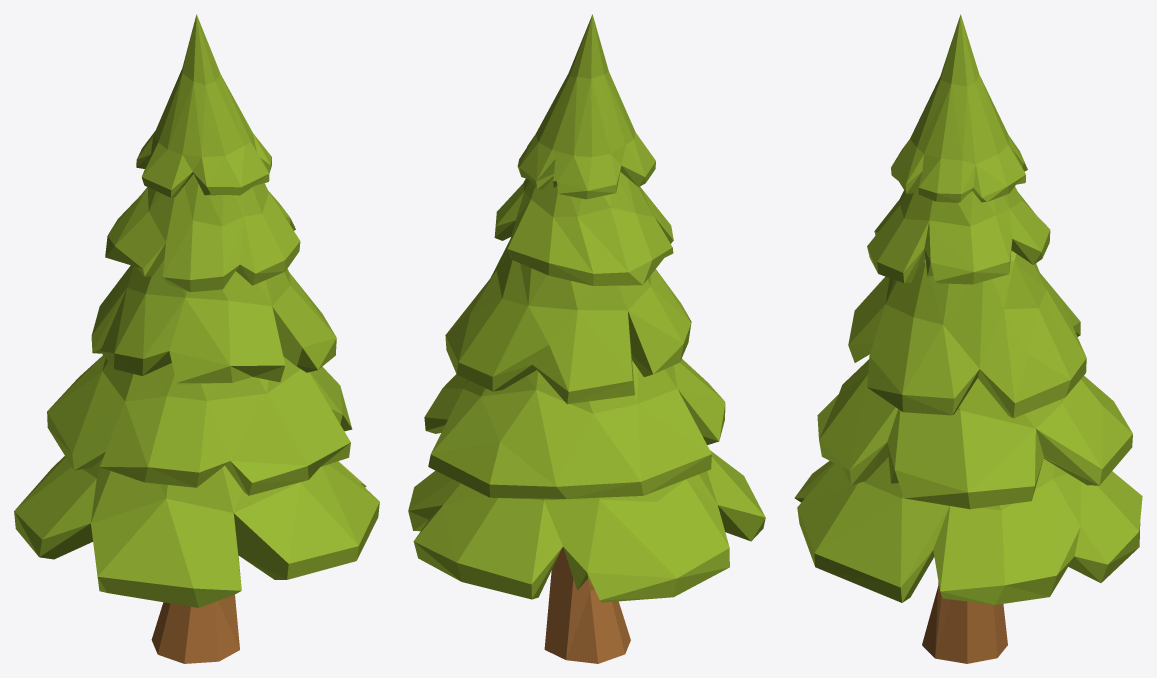
The model's file is tree_08.glb.
3 renders of one model, left to right at view 1: azimuth 30°, elevation 25°; view 2: azimuth 150°, elevation 25°; view 3: azimuth 270°, elevation 25°, orthographic.
Parts seen in each view (by area): view 1: Lowpoly_Tree_08_Material.004_0, Lowpoly_Tree_08_Material_0; view 2: Lowpoly_Tree_08_Material.004_0, Lowpoly_Tree_08_Material_0; view 3: Lowpoly_Tree_08_Material.004_0, Lowpoly_Tree_08_Material_0.
Part boxes in pixels (x1=…): Lowpoly_Tree_08_Material.004_0: x1=14, y1=14, x2=379, y2=607; Lowpoly_Tree_08_Material_0: x1=151, y1=594, x2=239, y2=663; Lowpoly_Tree_08_Material.004_0: x1=408, y1=14, x2=765, y2=602; Lowpoly_Tree_08_Material_0: x1=544, y1=547, x2=630, y2=663; Lowpoly_Tree_08_Material.004_0: x1=794, y1=14, x2=1142, y2=604; Lowpoly_Tree_08_Material_0: x1=922, y1=582, x2=1007, y2=663.
Bounding box in the file's own units: 0.9852 × 1.94 × 0.9729.
